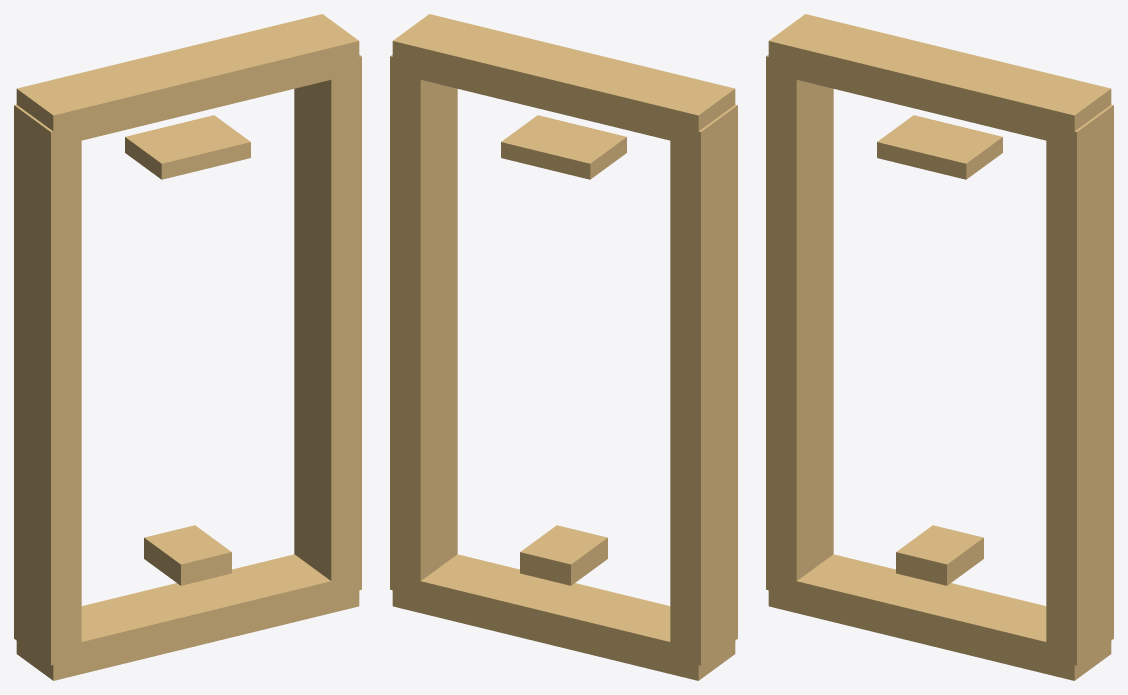
The model's file is web-responsive.glb.
The picture shows the model from 3 angles, left to right: view 1: azimuth 30°, elevation 25°; view 2: azimuth 150°, elevation 25°; view 3: azimuth 330°, elevation 25°; orthographic projection.
Visible parts, largest first — view 1: Forma Monogram; view 2: Forma Monogram; view 3: Forma Monogram.
Part boxes in pixels (bbox=[...]): Forma Monogram: bbox=[14, 14, 361, 680]; Forma Monogram: bbox=[390, 14, 737, 680]; Forma Monogram: bbox=[766, 14, 1113, 680].
Size of the model in its own units: 1.22 by 2.12 by 0.25.
